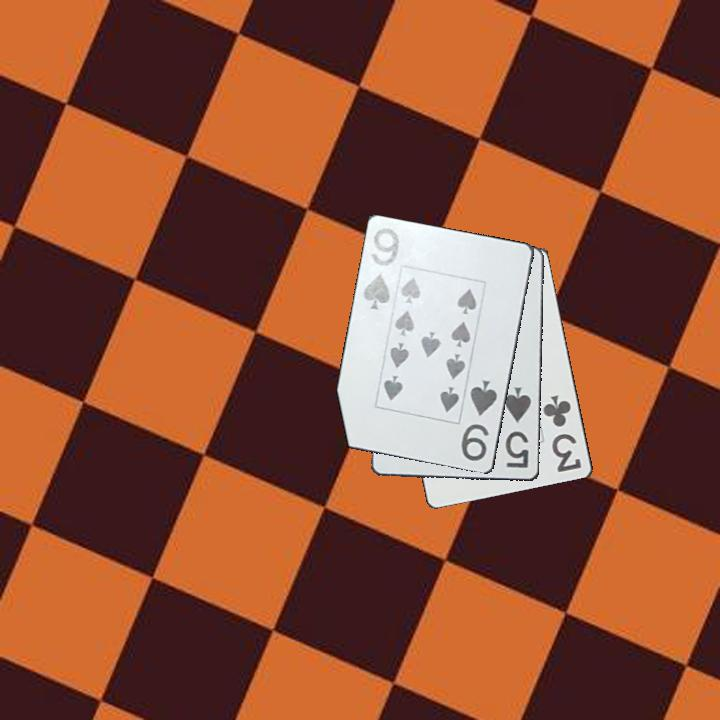3c: (540, 391, 585, 476)
5s: (501, 384, 535, 471)
9s: (360, 224, 404, 313), (458, 376, 500, 465)
